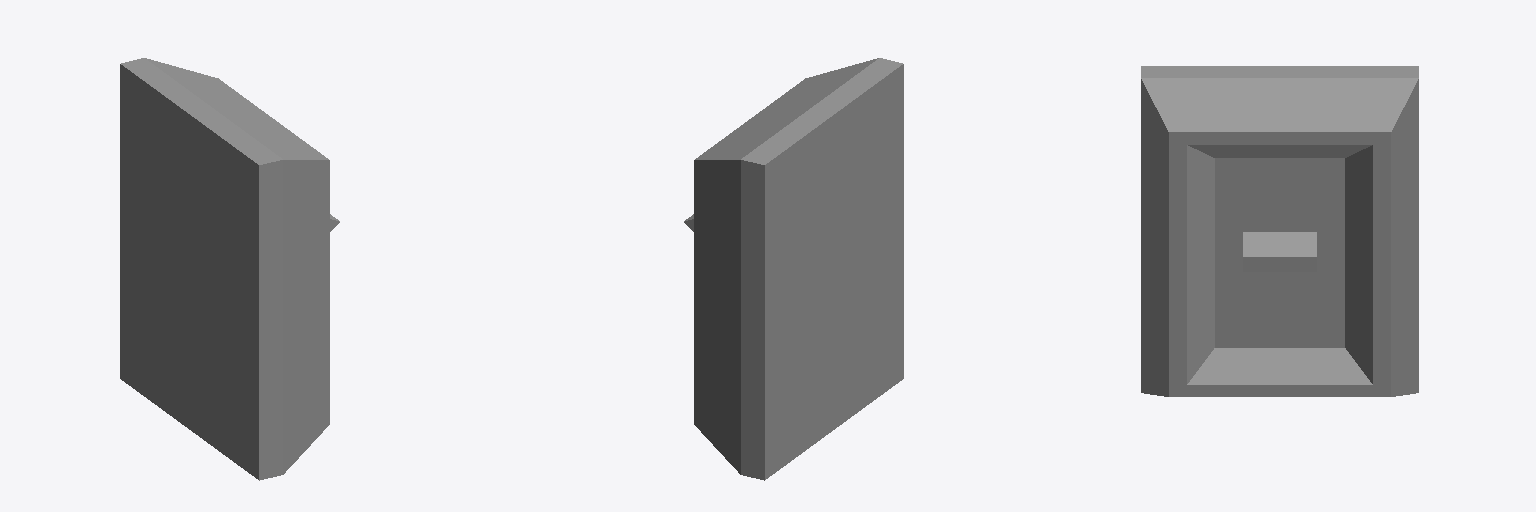
Rendered from Light_switch.obj.
3 views of the same model, side by side, from view 1: azimuth 30°, elevation 25°; view 2: azimuth 150°, elevation 25°; view 3: azimuth 270°, elevation 25° (orthographic).
Visible parts, largest first — view 1: Cube.001_Cube.002; view 2: Cube.001_Cube.002; view 3: Cube.001_Cube.002.
Boxes of the visible parts, x1=… form: Cube.001_Cube.002: x1=120, y1=58, x2=339, y2=480; Cube.001_Cube.002: x1=684, y1=58, x2=903, y2=480; Cube.001_Cube.002: x1=1141, y1=66, x2=1418, y2=396.
Bounding box in the file's own units: 0.055 × 0.125 × 0.1.